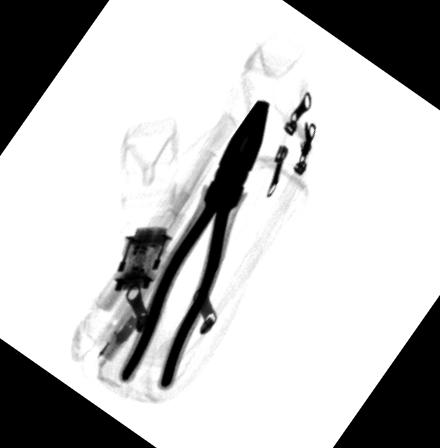Pliers: (120, 96, 271, 391)
